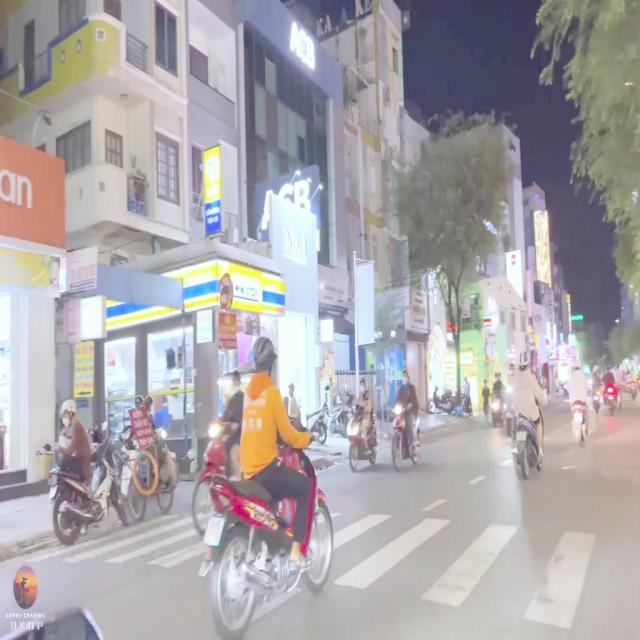cam_o_to_tai: (220, 273, 233, 310)
